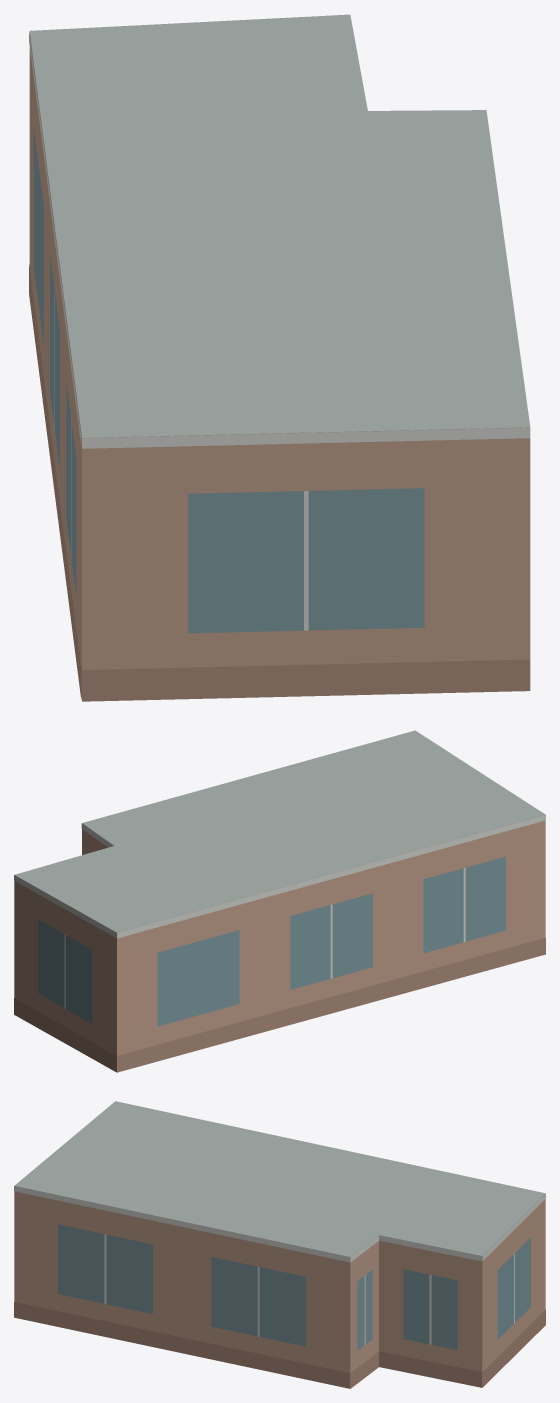
File: survey-upis-33017424.glb
3 views of the same model, one above another, from view 1: azimuth 30°, elevation 25°; view 2: azimuth 150°, elevation 25°; view 3: azimuth 270°, elevation 25° (orthographic). The views are drawn at different scales.
Parts seen in each view (by area): view 1: survey-upis-33017424.tmp; view 2: survey-upis-33017424.tmp; view 3: survey-upis-33017424.tmp.
Part boxes in pixels (left/top/right/bottom): survey-upis-33017424.tmp: left=29, top=14, right=530, bottom=701; survey-upis-33017424.tmp: left=14, top=730, right=545, bottom=1072; survey-upis-33017424.tmp: left=14, top=1101, right=545, bottom=1388.
Bounding box in the file's own units: 7.76 × 3.05 × 11.16.
